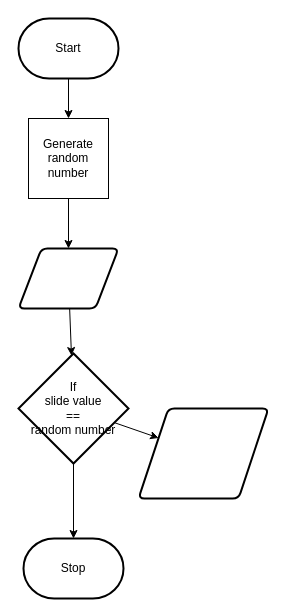
Some shapes in this 286 by 616 pixel diagram are drawn without their labels. Here are the shapes that lost their labels. From the top down, the box of each, then its label:
(17, 247, 119, 309): Get slide value
(137, 407, 269, 499): say "right answer
